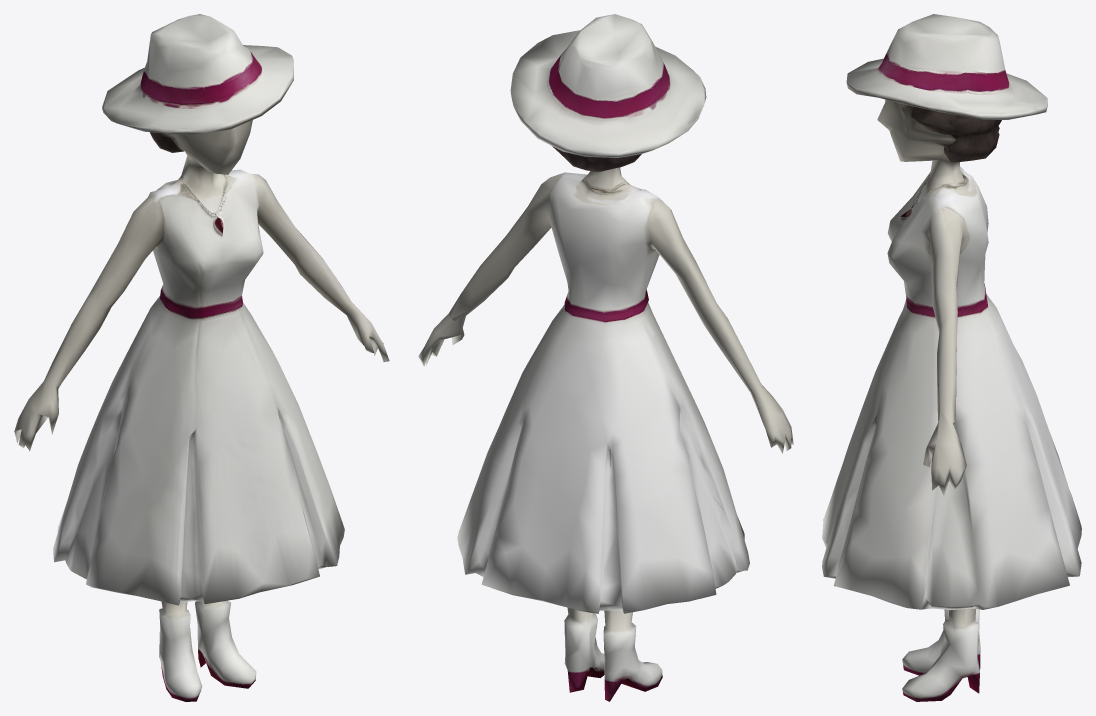
The model's file is Meshy_AI_White_Elegance_0314043639_texture.fbx.
The picture shows the model from 3 angles, left to right: view 1: azimuth 30°, elevation 25°; view 2: azimuth 150°, elevation 25°; view 3: azimuth 270°, elevation 25°; orthographic projection.
Parts seen in each view (by area): view 1: Mesh_0; view 2: Mesh_0; view 3: Mesh_0.
Boxes of the visible parts, <box> form: Mesh_0: <box>14,14,389,701</box>; Mesh_0: <box>418,14,793,701</box>; Mesh_0: <box>822,14,1081,701</box>.
Size of the model in its own units: 112 by 191 by 68.53.
1 material, 1 textured.
